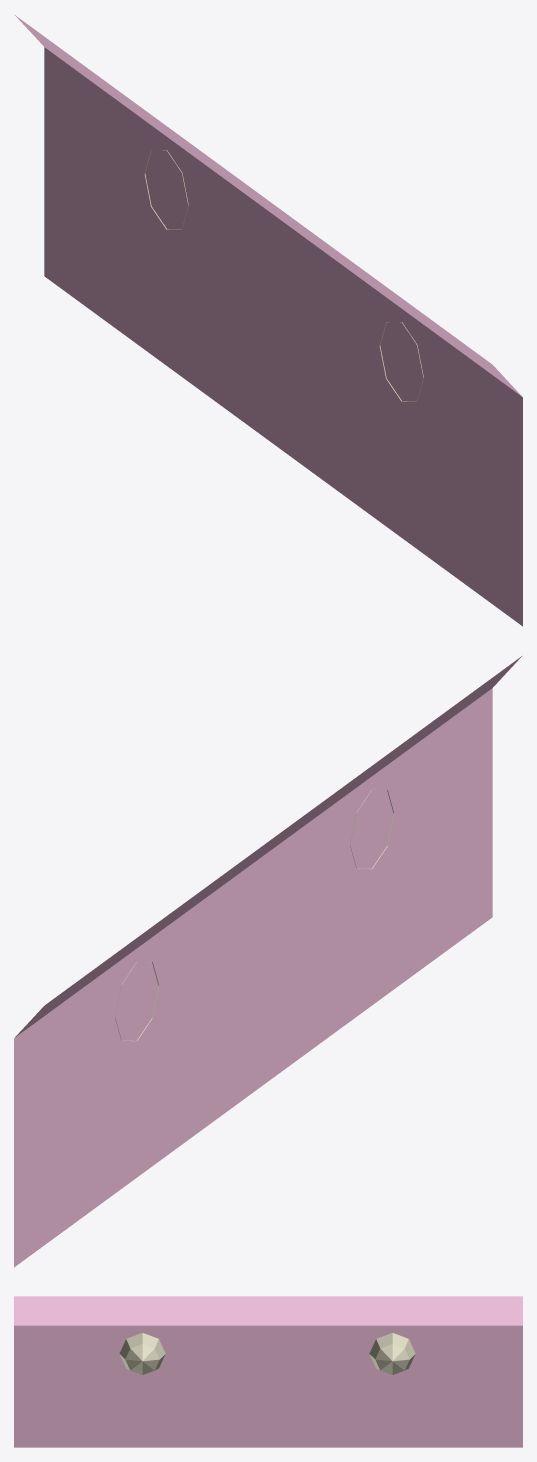
3 views of the same model, one above another, from view 1: azimuth 30°, elevation 25°; view 2: azimuth 150°, elevation 25°; view 3: azimuth 270°, elevation 25° (orthographic). The views are drawn at different scales.
Parts seen in each view (by area): view 1: Object03; view 2: Object03; view 3: Object03.
Boxes of the visible parts, <box> form: Object03: <box>15,15,522,626</box>; Object03: <box>14,656,521,1267</box>; Object03: <box>14,1296,522,1447</box>.
Size of the model in its own units: 43.17 by 186 by 600.
